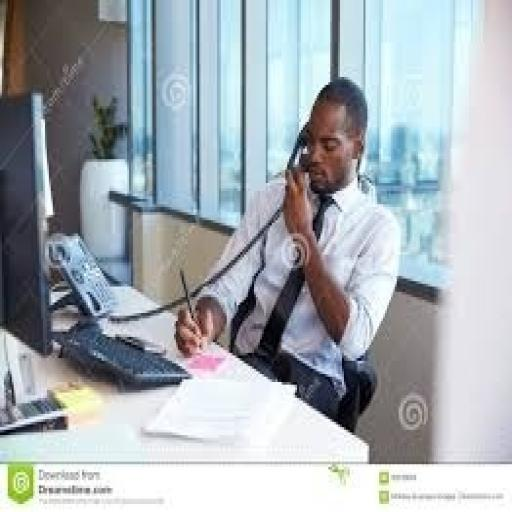calling: (172, 74, 403, 427)
